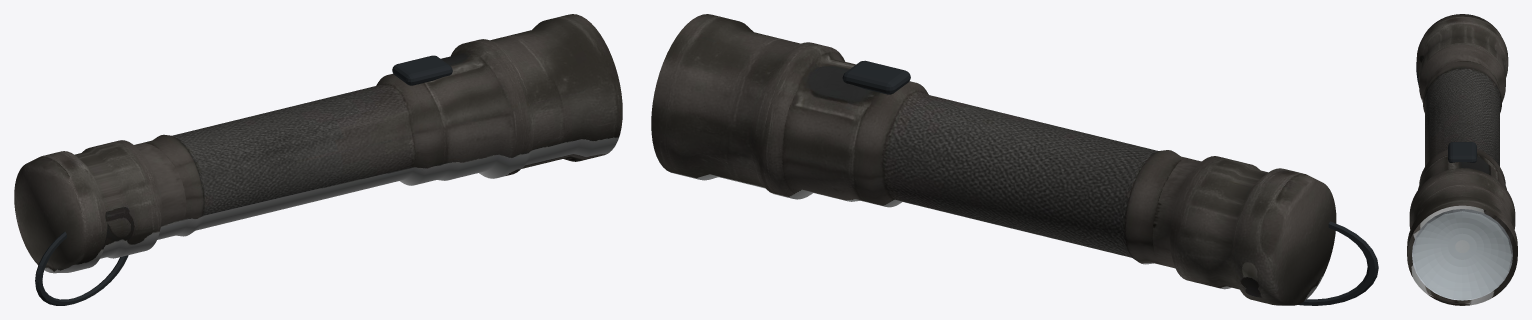
Rendered from flashlight.glb.
3 renders of one model, left to right at view 1: azimuth 30°, elevation 25°; view 2: azimuth 150°, elevation 25°; view 3: azimuth 270°, elevation 25°, orthographic. The views are drawn at different scales.
Visible parts, largest first — view 1: gunmetal_torch, wrist_strap, side_rubber_switch; view 2: gunmetal_torch, side_rubber_switch, wrist_strap; view 3: gunmetal_torch, reflector, lens, side_rubber_switch.
Part boxes in pixels (box(x1,y1,x2,y2)): gunmetal_torch: box(14, 14, 622, 273); wrist_strap: box(35, 231, 128, 305); side_rubber_switch: box(392, 55, 452, 85); gunmetal_torch: box(651, 14, 1336, 305); side_rubber_switch: box(842, 60, 910, 94); wrist_strap: box(1298, 221, 1378, 305); gunmetal_torch: box(1407, 14, 1517, 305); reflector: box(1412, 209, 1512, 300); lens: box(1413, 211, 1511, 300); side_rubber_switch: box(1448, 142, 1476, 162).
Size of the model in its own units: 0.2131 by 0.049 by 0.046.
4 materials, 1 textured.
